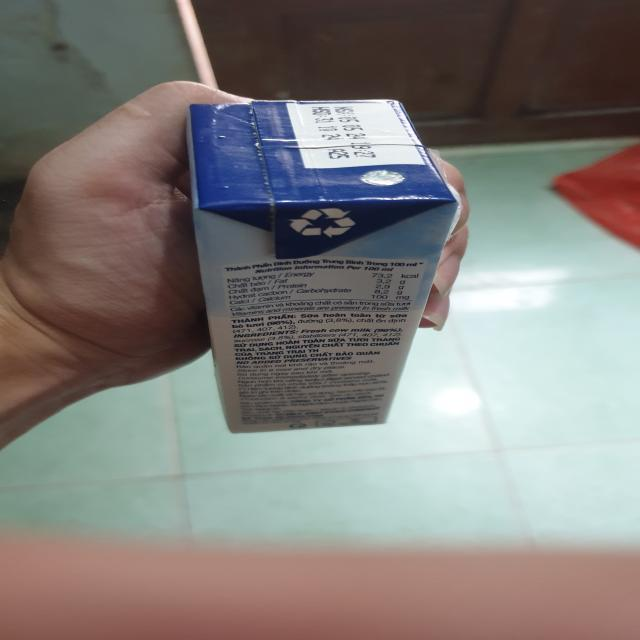TH: (187, 99, 457, 436)
